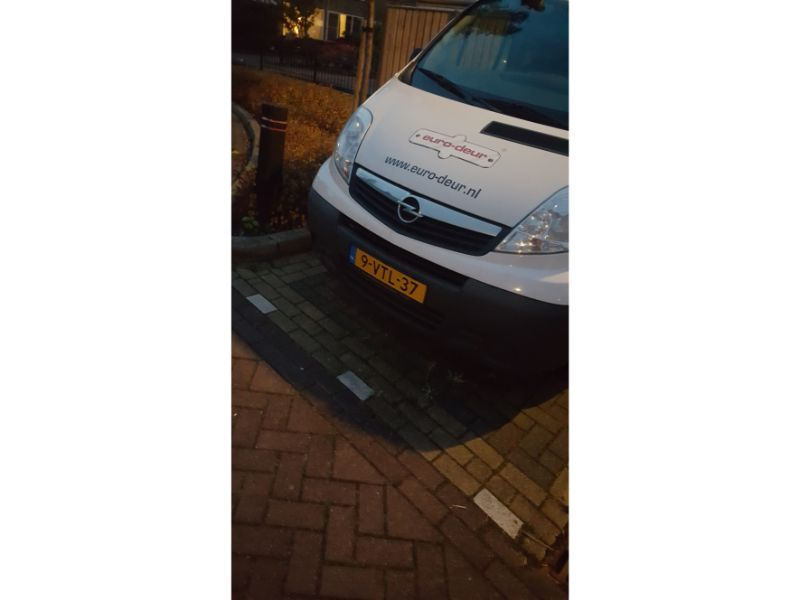kenteken: (343, 244, 428, 307)
